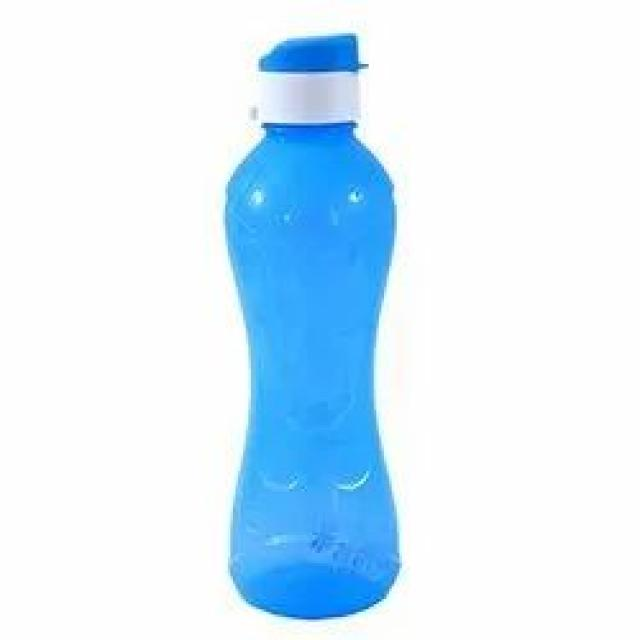plastic_bottle: (194, 16, 410, 626)
